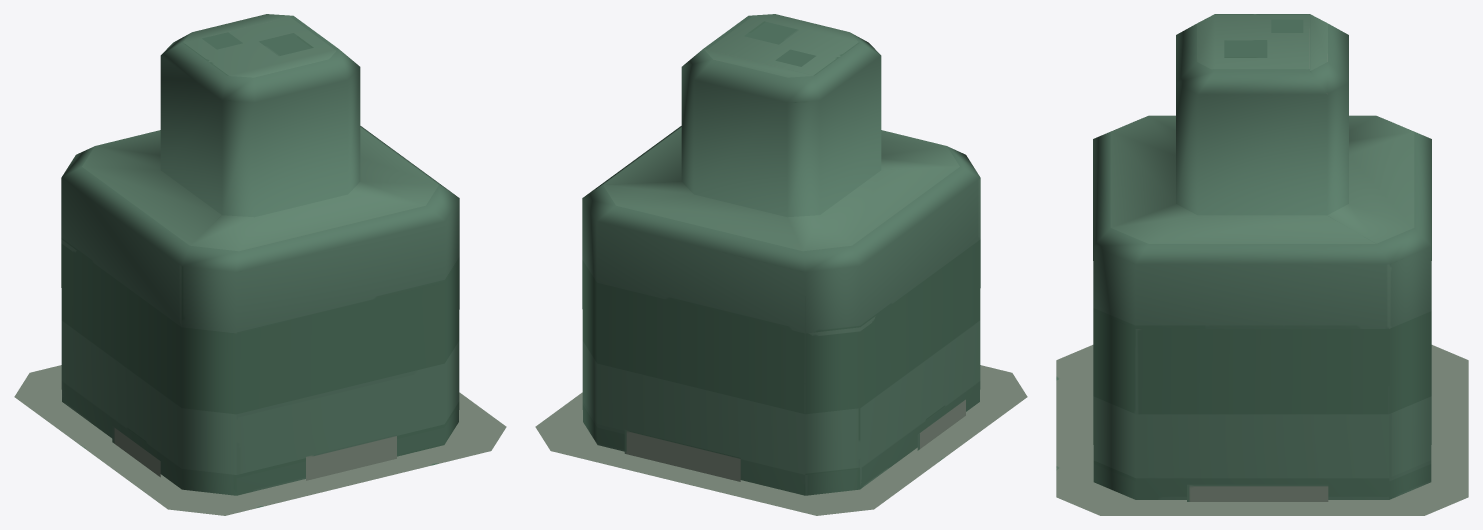
The model's file is B_cave2_rock00.fbx.
3 views of the same model, side by side, from view 1: azimuth 30°, elevation 25°; view 2: azimuth 150°, elevation 25°; view 3: azimuth 270°, elevation 25° (orthographic). The views are drawn at different scales.
Parts seen in each view (by area): view 1: model 1, model; view 2: model 1, model; view 3: model 1, model.
Boxes of the visible parts, bbox=[...] form: model 1: bbox=[16, 14, 506, 515]; model: bbox=[14, 365, 506, 515]; model 1: bbox=[536, 14, 1025, 515]; model: bbox=[535, 365, 1027, 515]; model 1: bbox=[1056, 14, 1468, 515]; model: bbox=[1056, 345, 1468, 515].
Bounding box in the file's own units: 2.07 × 2.16 × 2.07.
